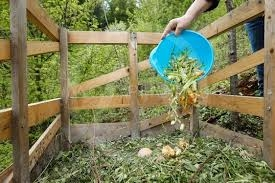kitchen_waste: (167, 71, 198, 130), (135, 144, 154, 161), (160, 143, 178, 159)
